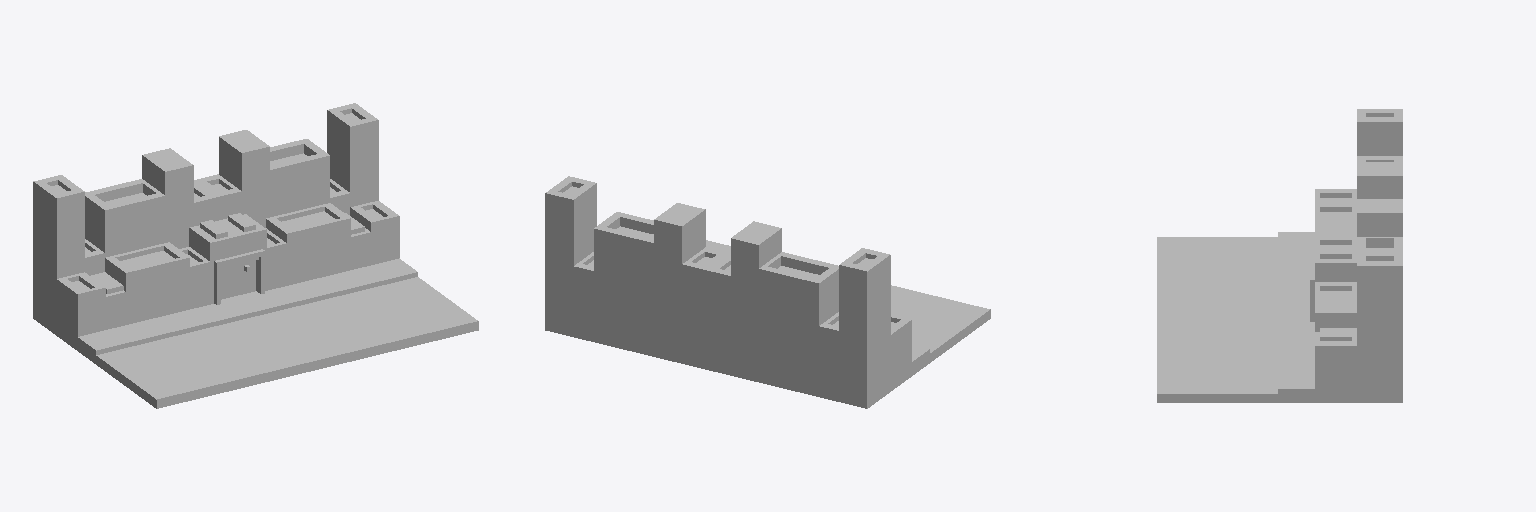
Rendered from stageTitle.obj.
3 renders of one model, left to right at view 1: azimuth 30°, elevation 25°; view 2: azimuth 150°, elevation 25°; view 3: azimuth 270°, elevation 25°, orthographic.
Parts seen in each view (by area): view 1: Untitled; view 2: Untitled; view 3: Untitled.
Boxes of the visible parts, x1,y1,x2,y2 form: Untitled: [33, 103, 478, 408]; Untitled: [545, 176, 990, 408]; Untitled: [1157, 109, 1402, 402].
Bounding box in the file's own units: 32 × 13.05 × 21.2.